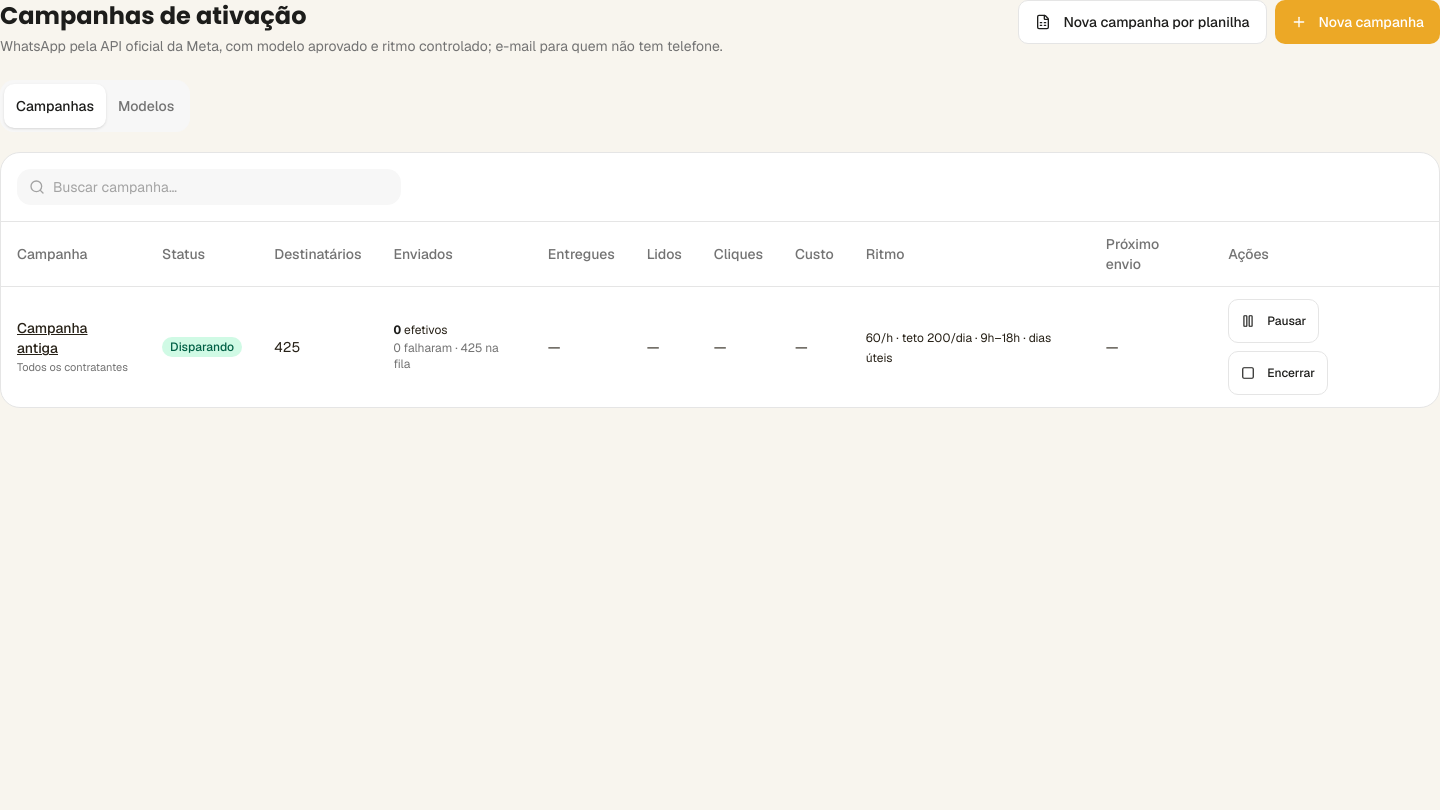
Test case: CampanhasPage › campanha antiga (sem modelo) lista e abre o detalhe sem erro
Click the button with test id "open-campaign-old-1" at (74, 338), box [17, 318, 130, 358]
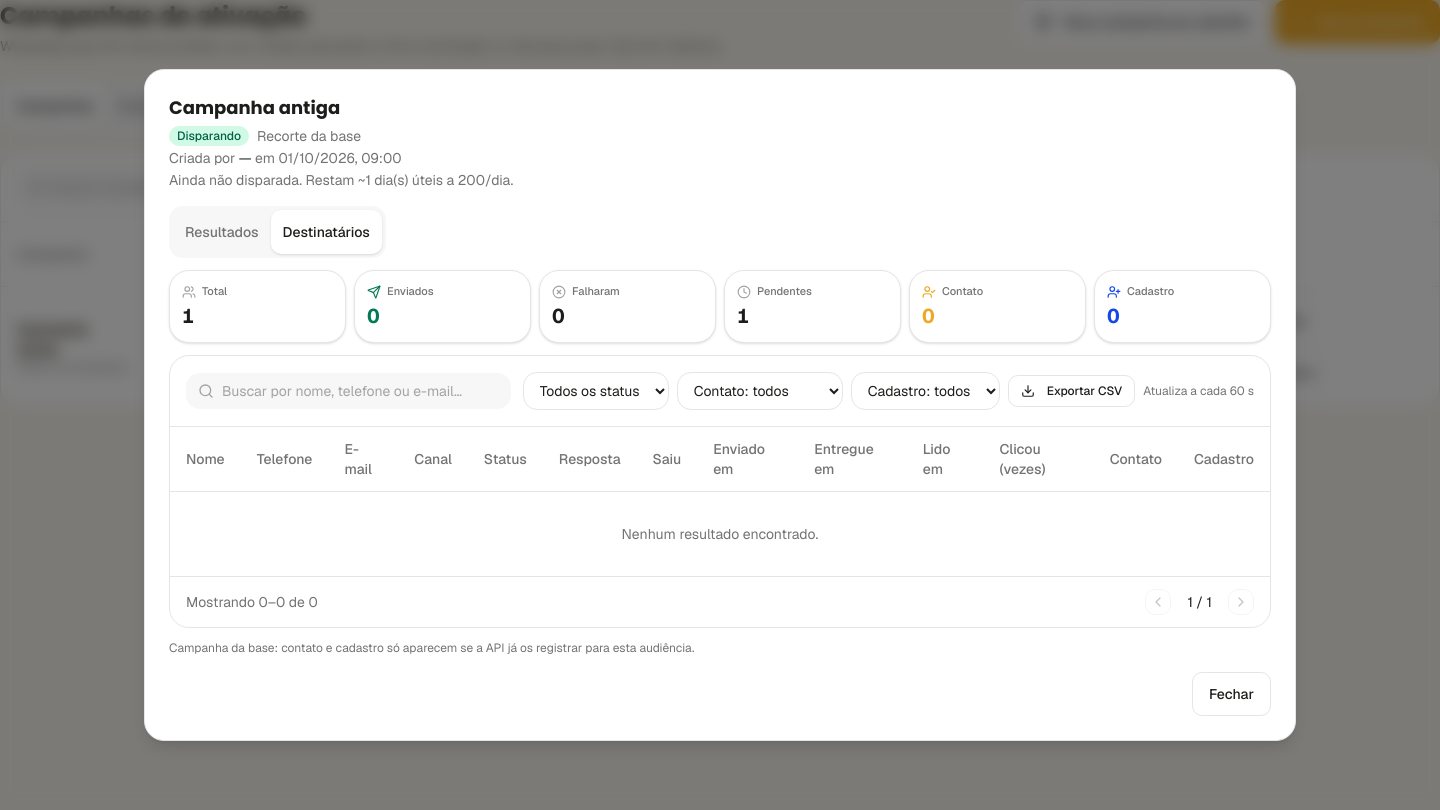
expect the button "Encerrar" is shown: met, box [1228, 351, 1328, 395]
expect the element with test id "detail-meta" is shown: met, box [169, 126, 513, 189]
